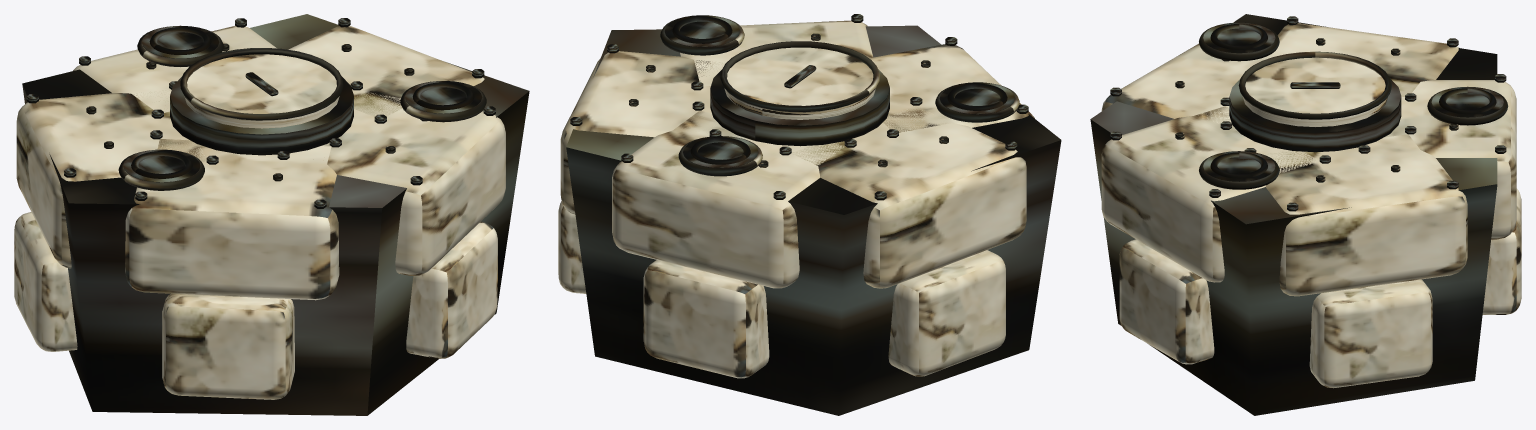
The model's file is body-sentinel-astra-v3.glb.
The picture shows the model from 3 angles, left to right: view 1: azimuth 30°, elevation 25°; view 2: azimuth 150°, elevation 25°; view 3: azimuth 270°, elevation 25°; orthographic projection. The views are drawn at different scales.
Visible parts, largest first — view 1: sentinel-detail-ceramic, sentinel-steel, sentinel-detail-metal, sentinel-detail-brass; view 2: sentinel-detail-ceramic, sentinel-steel, sentinel-detail-metal, sentinel-detail-brass; view 3: sentinel-detail-ceramic, sentinel-steel, sentinel-detail-metal, sentinel-detail-brass.
Boxes of the visible parts, x1,y1,x2,y2 form: sentinel-detail-ceramic: (14, 25, 505, 399); sentinel-steel: (22, 14, 529, 415); sentinel-detail-metal: (26, 18, 495, 208); sentinel-detail-brass: (86, 26, 486, 190); sentinel-detail-ceramic: (558, 20, 1034, 378); sentinel-steel: (566, 25, 1061, 415); sentinel-detail-metal: (570, 14, 1028, 200); sentinel-detail-brass: (629, 15, 1019, 176); sentinel-detail-ceramic: (1101, 23, 1521, 388); sentinel-steel: (1090, 14, 1497, 415); sentinel-detail-metal: (1110, 16, 1506, 211); sentinel-detail-brass: (1175, 22, 1508, 189).
Bounding box in the file's own units: 1.39 × 0.7855 × 1.2.
4 materials, 4 textured.
